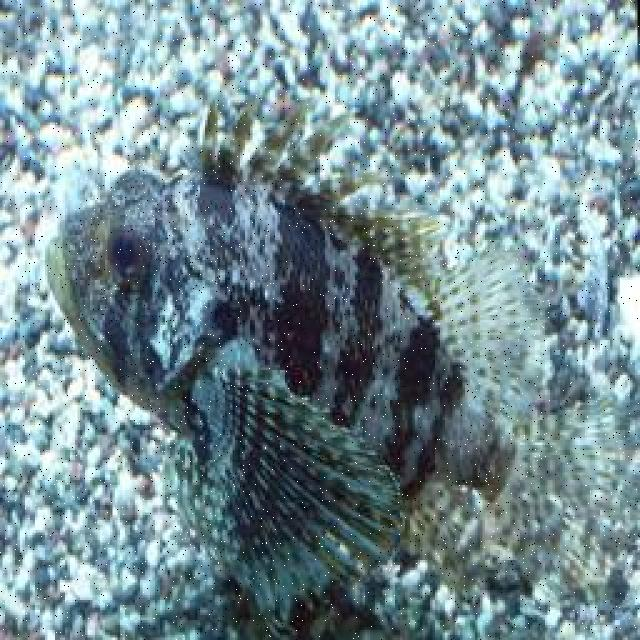fish: (43, 84, 638, 620)
